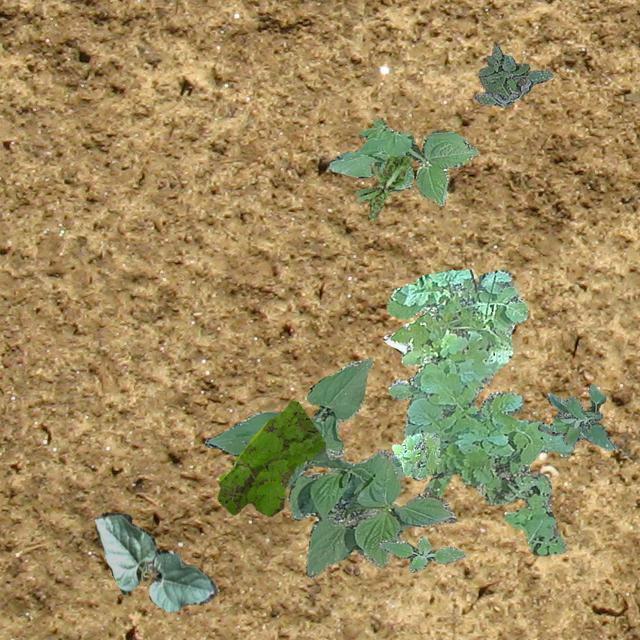crop: (204, 358, 456, 578), (94, 510, 215, 610), (382, 333, 407, 352)
weed: (386, 268, 576, 556), (328, 118, 478, 204), (216, 398, 324, 516), (536, 382, 614, 448), (472, 44, 552, 106), (354, 154, 409, 218), (378, 536, 466, 572), (390, 432, 440, 478)
